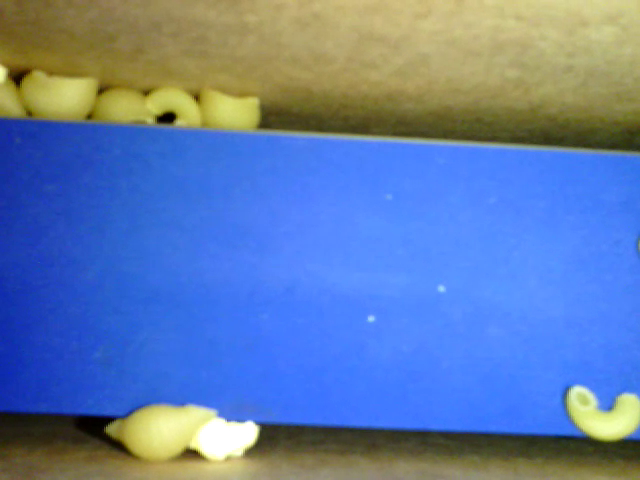elbow: (567, 385, 639, 441), (146, 87, 201, 125)
shell: (105, 401, 217, 461), (19, 70, 95, 124), (197, 83, 260, 130), (88, 84, 157, 126)
